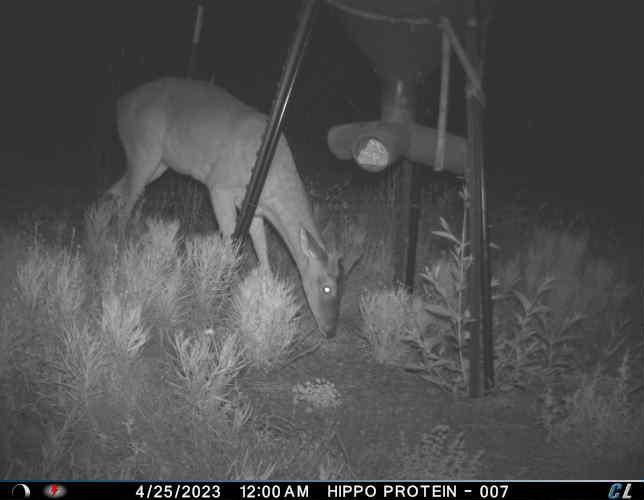Deer: (85, 70, 369, 342)
